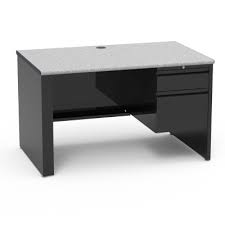desk_082.jpg: (7, 32, 217, 182)
